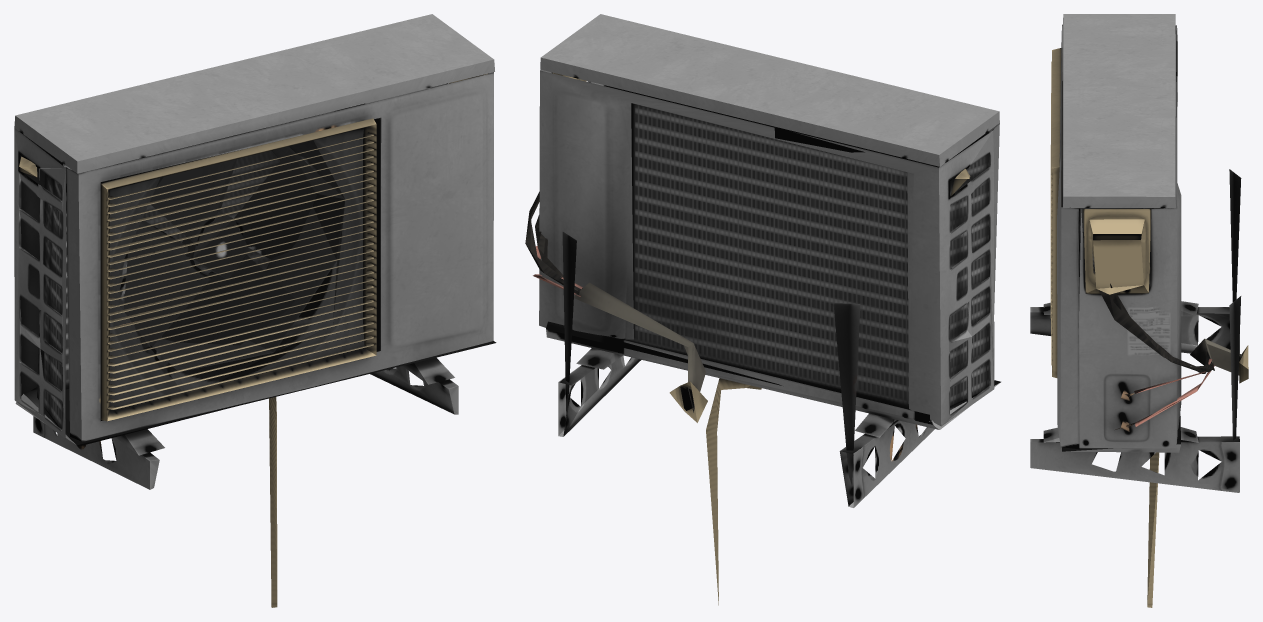
The model's file is exterior_aircon_unit_lod3.fbx.
3 renders of one model, left to right at view 1: azimuth 30°, elevation 25°; view 2: azimuth 150°, elevation 25°; view 3: azimuth 270°, elevation 25°, orthographic. The views are drawn at different scales.
Parts seen in each view (by area): view 1: lod2; view 2: lod2; view 3: lod2.
Boxes of the visible parts, x1,y1,x2,y2 form: lod2: (14, 14, 496, 607); lod2: (525, 14, 1000, 605); lod2: (1030, 14, 1248, 607).
Size of the model in its own units: 31.5 by 14.74 by 36.32.
